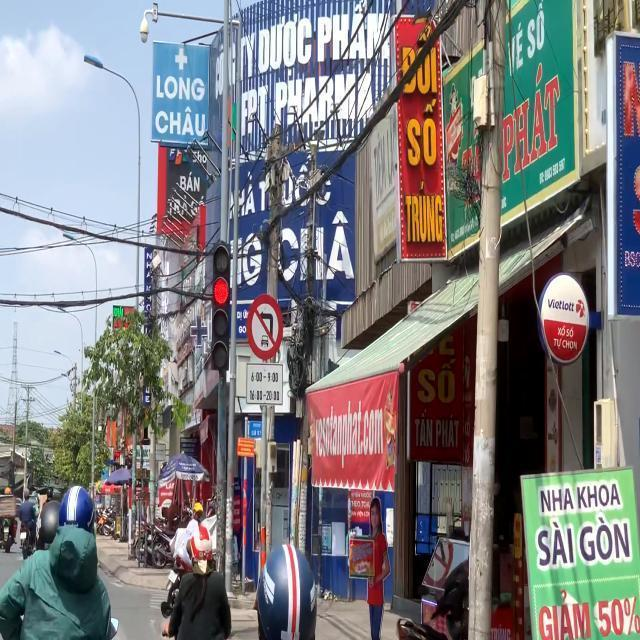123a-cam-re-trai: (247, 294, 285, 358)
